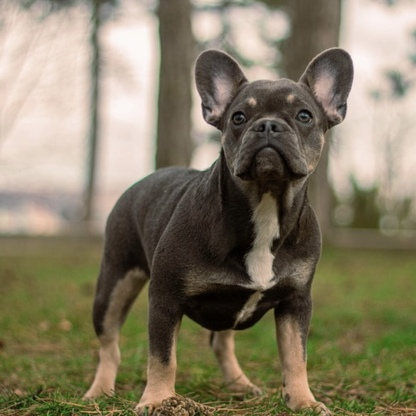bulldog: (81, 46, 356, 416)
